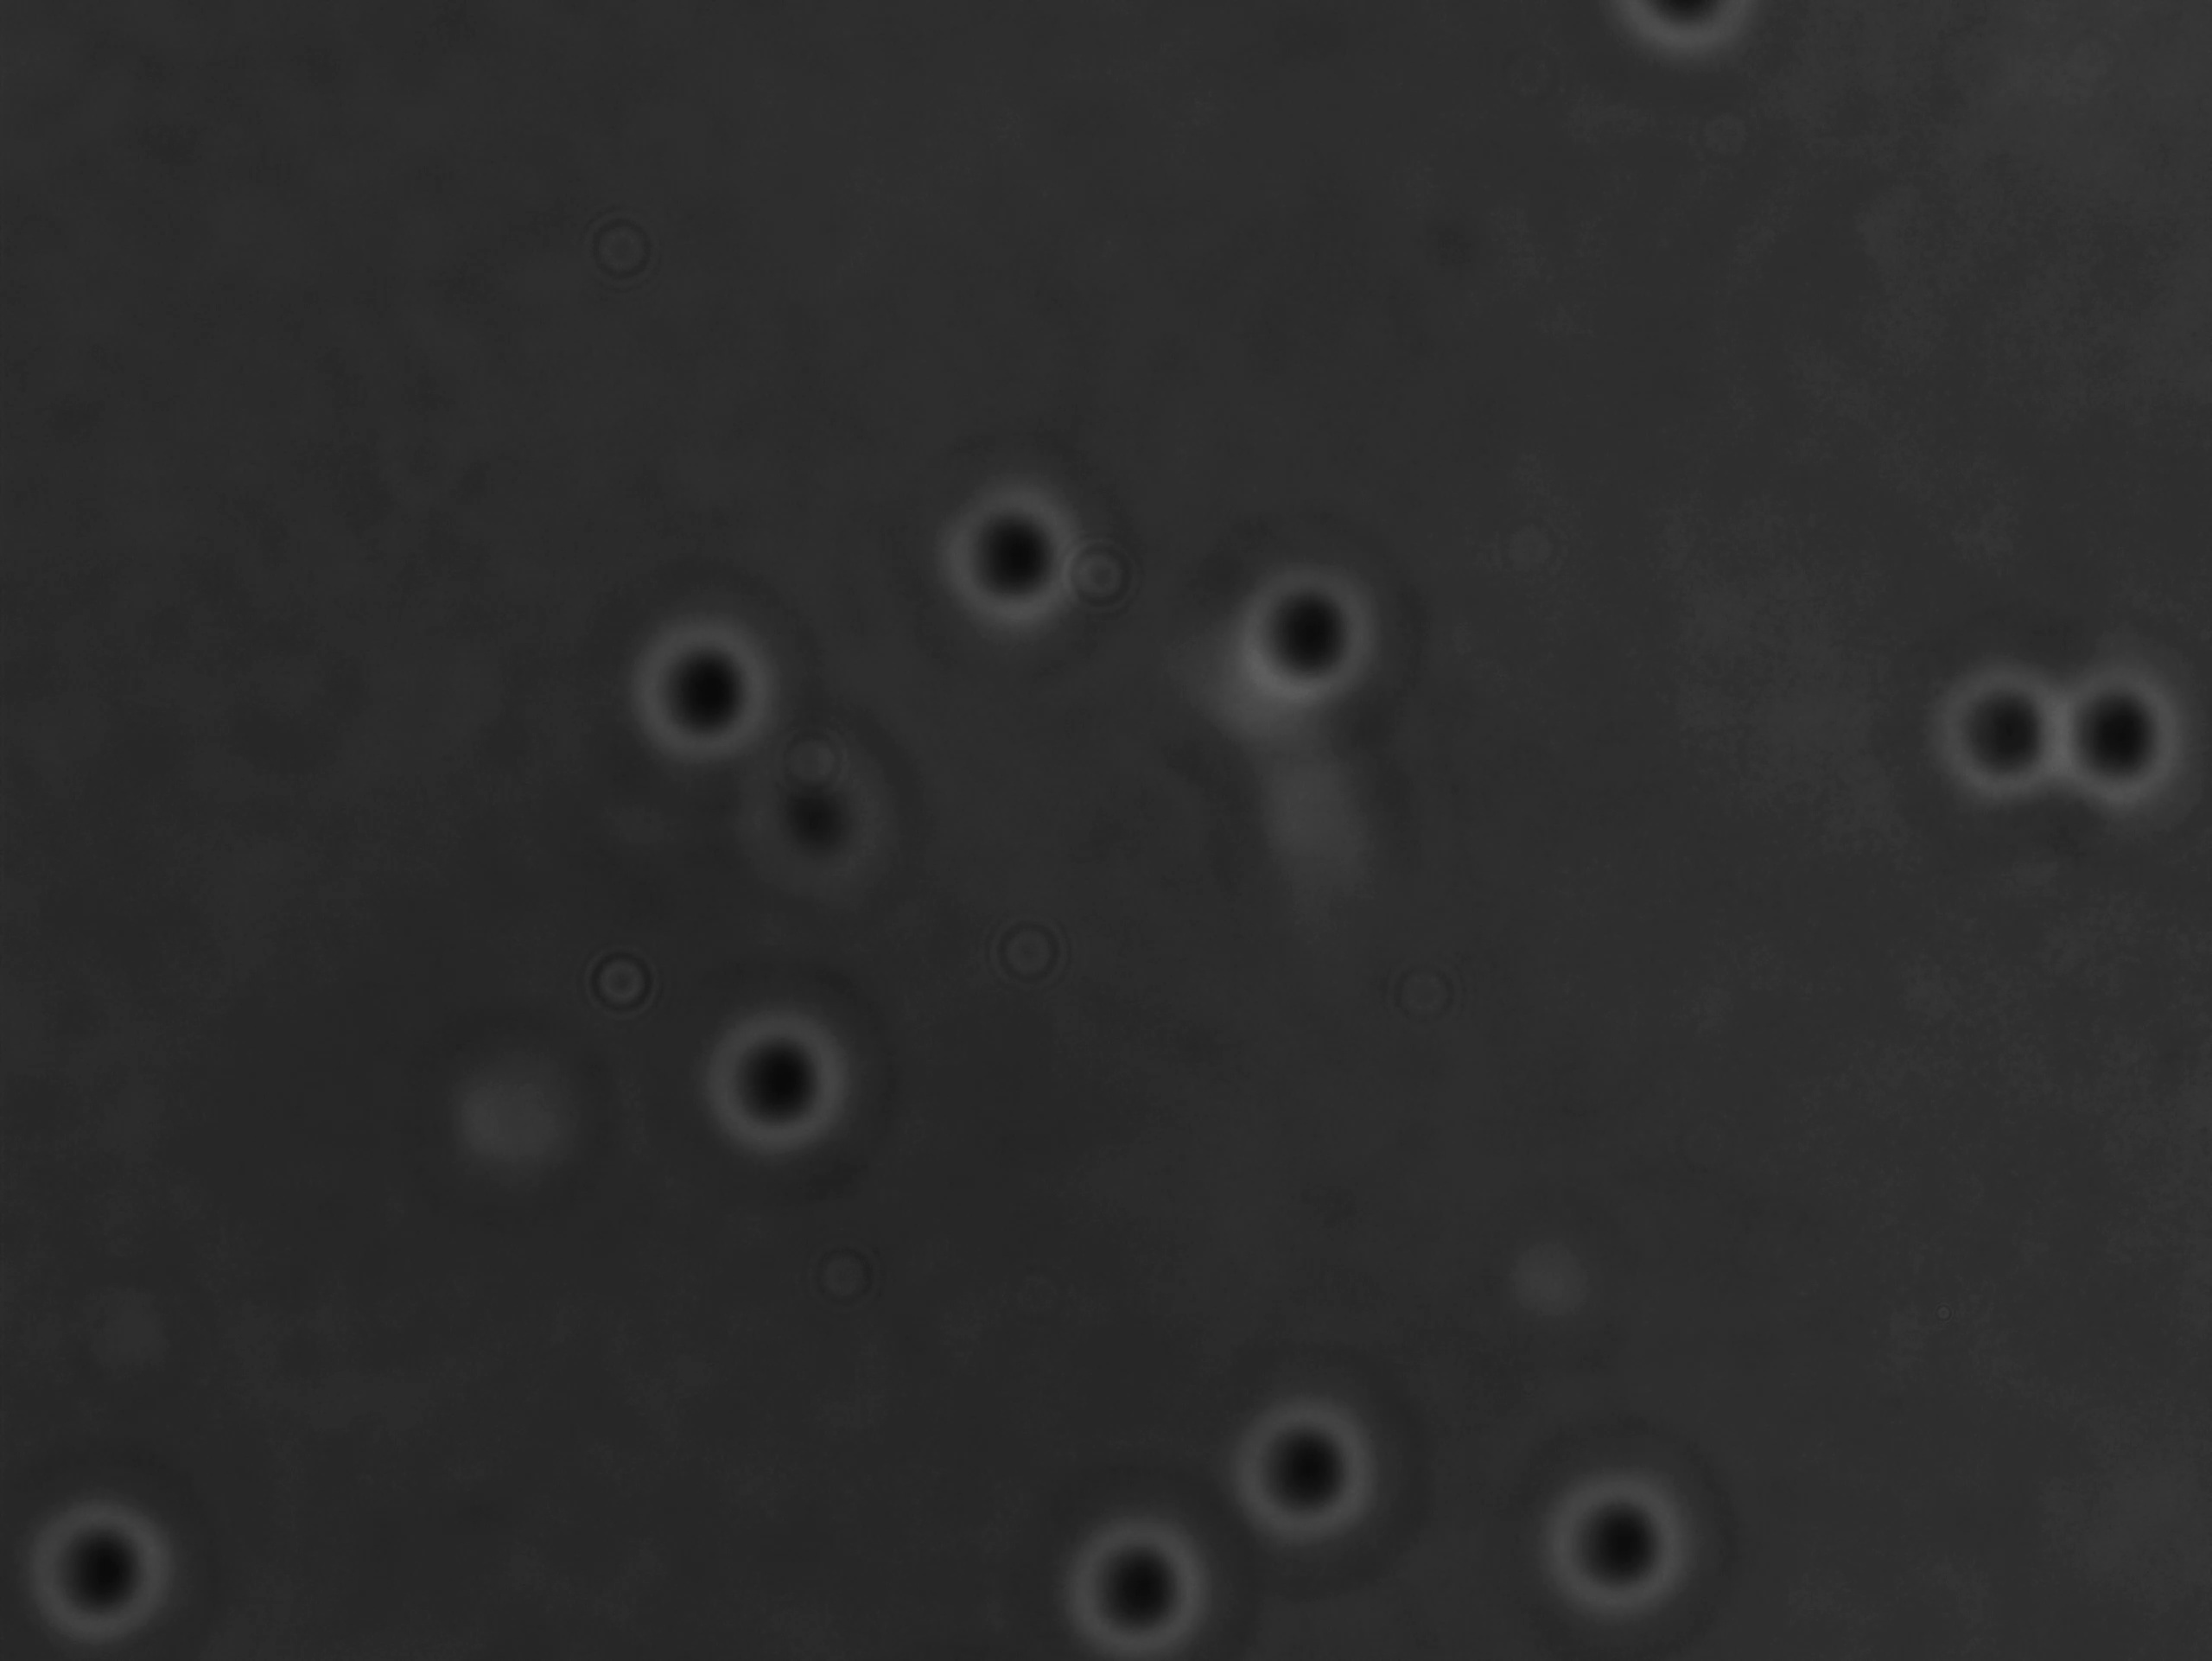depth:-80: (609, 583, 802, 780), (686, 988, 876, 1181), (1216, 1375, 1406, 1567), (1211, 543, 1404, 731), (1525, 1455, 1715, 1631), (921, 471, 1108, 647)
